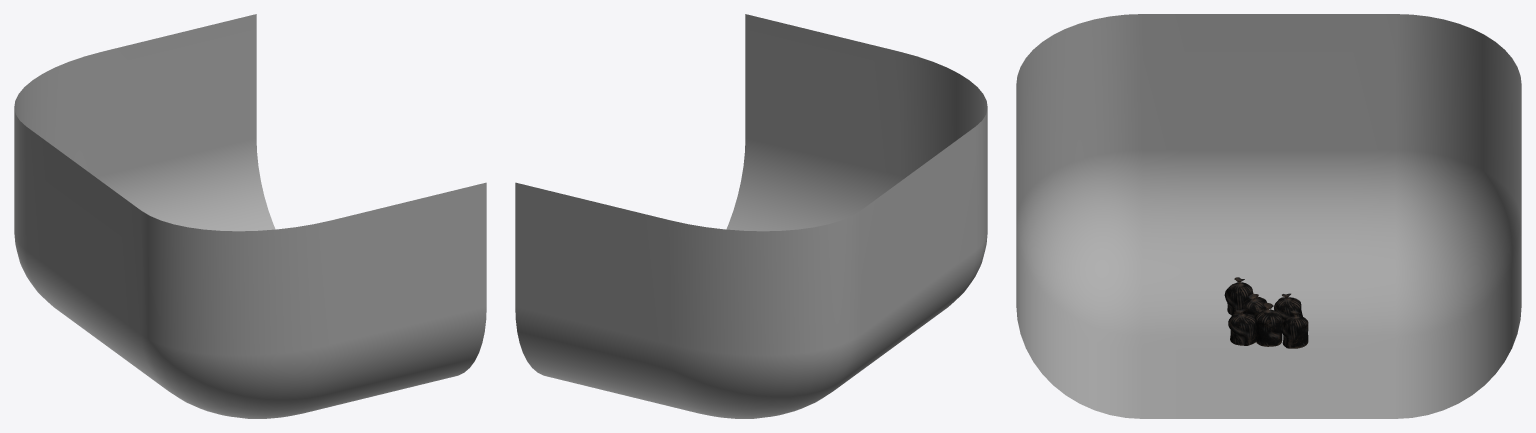
3 views of the same model, side by side, from view 1: azimuth 30°, elevation 25°; view 2: azimuth 150°, elevation 25°; view 3: azimuth 270°, elevation 25° (orthographic). The views are drawn at different scales.
Parts seen in each view (by area): view 1: pCube1; view 2: pCube1; view 3: pCube1, pCylinder5, pCylinder6, pCylinder7, pCylinder10, pCylinder9.
Boxes of the visible parts, <box> form: pCube1: <box>14,14,486,418</box>; pCube1: <box>515,14,987,418</box>; pCube1: <box>1016,14,1521,418</box>; pCylinder5: <box>1254,303,1282,346</box>; pCylinder6: <box>1228,309,1255,345</box>; pCylinder7: <box>1281,310,1308,348</box>; pCylinder10: <box>1224,277,1253,315</box>; pCylinder9: <box>1274,293,1302,322</box>.
Size of the model in its own units: 288 by 221 by 399.
2 materials, 1 textured.
